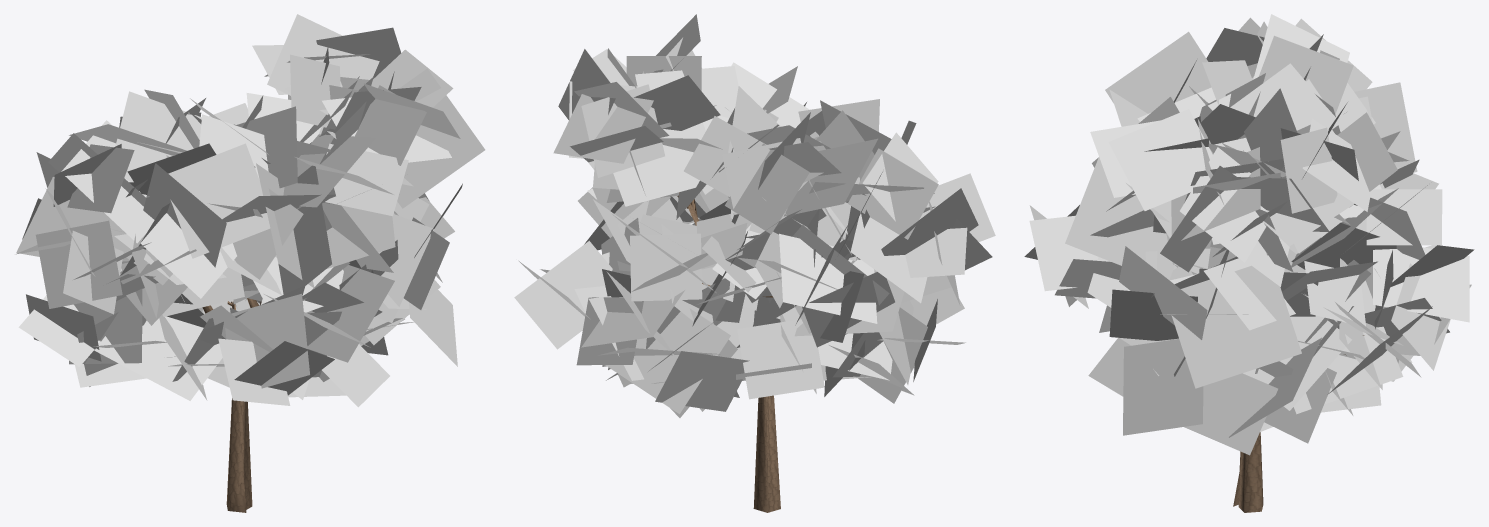
The model's file is OakCrown_v04_LOD2.fbx.
3 views of the same model, side by side, from view 1: azimuth 30°, elevation 25°; view 2: azimuth 150°, elevation 25°; view 3: azimuth 270°, elevation 25° (orthographic). The views are drawn at different scales.
Visible parts, largest first — view 1: Foliage.001, Bark.001; view 2: Foliage.001, Bark.001; view 3: Foliage.001, Bark.001.
Boxes of the visible parts, bbox=[...] form: Foliage.001: bbox=[15, 14, 485, 407]; Bark.001: bbox=[202, 298, 261, 512]; Foliage.001: bbox=[514, 14, 995, 417]; Bark.001: bbox=[677, 192, 780, 512]; Foliage.001: bbox=[1024, 14, 1474, 455]; Bark.001: bbox=[1233, 335, 1364, 512].
Bounding box in the file's own units: 13 × 12.86 × 11.38.
